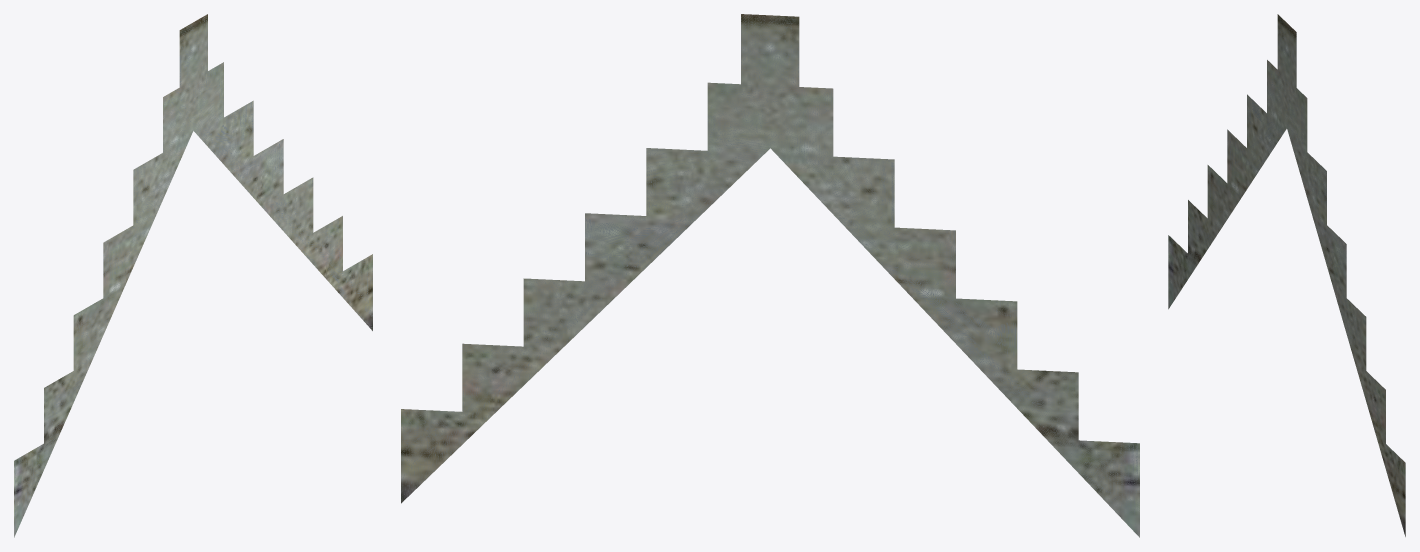
File: 西庸城堡408.dae
3 renders of one model, left to right at view 1: azimuth 30°, elevation 25°; view 2: azimuth 150°, elevation 25°; view 3: azimuth 270°, elevation 25°, orthographic. The views are drawn at different scales.
Parts seen in each view (by area): view 1: SketchUp; view 2: SketchUp; view 3: SketchUp.
Boxes of the visible parts, <box> form: SketchUp: <box>14,14,372,537</box>; SketchUp: <box>401,14,1139,537</box>; SketchUp: <box>1168,14,1405,536</box>.
Size of the model in its own units: 456 by 201 by 374.
2 materials, 1 textured.
